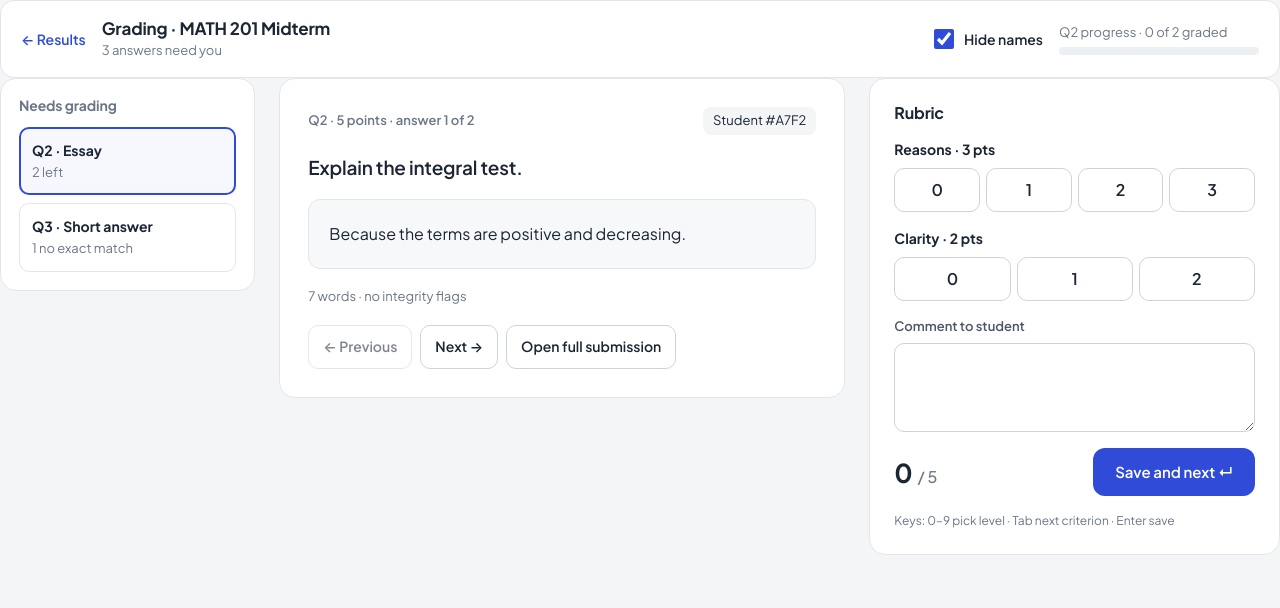
Scenario: GradingPage › shows the server error and keeps the form when saving fails
Expected: the text "Student #A7F2" is shown, left=703, top=107, right=816, bottom=134
Click the button named "Reasons: 1 of 3": (1029,190) left=986, top=168, right=1072, bottom=212
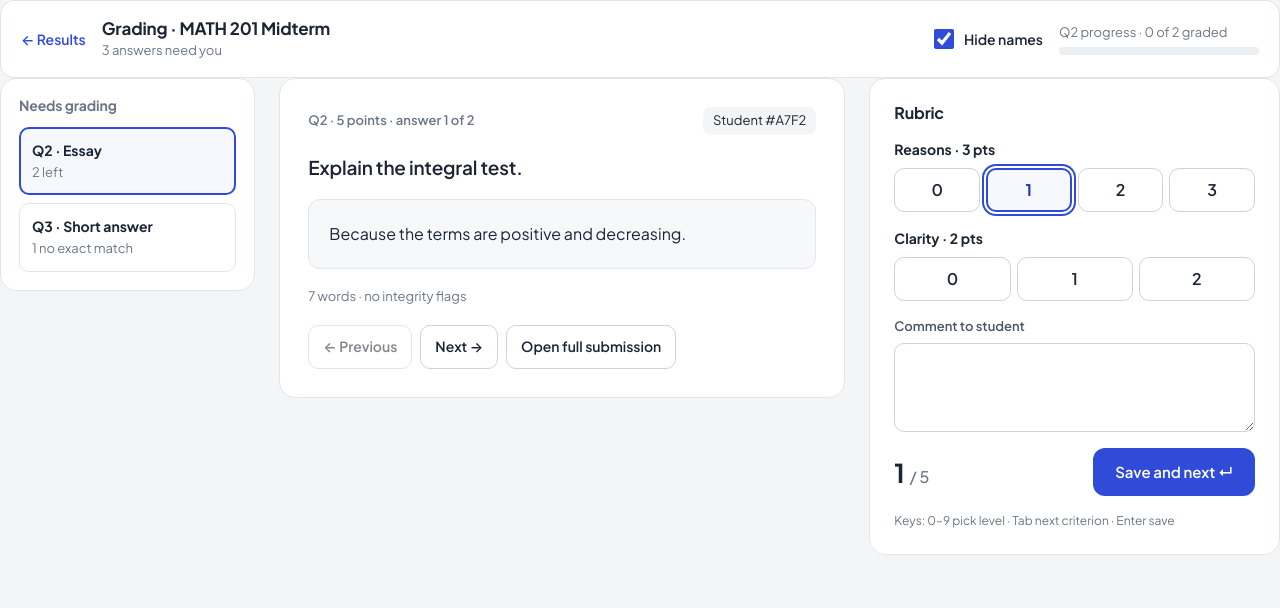
Click the button named "Clarity: 1 of 2": (1075,279) left=1016, top=257, right=1133, bottom=301
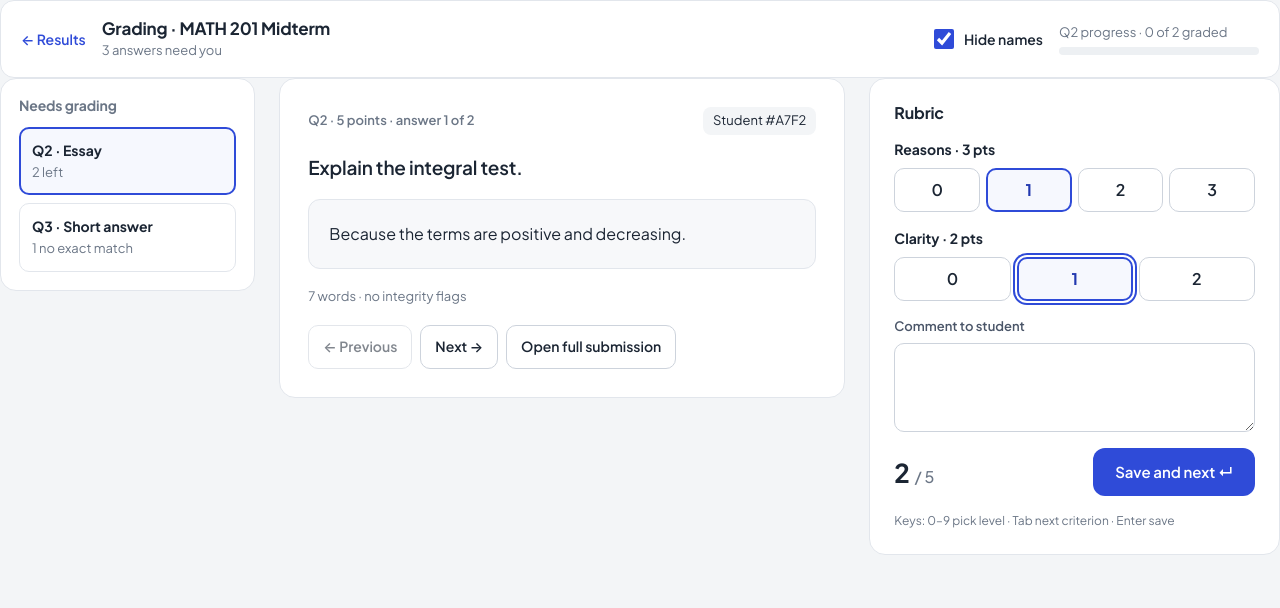
Click the button "Save and next ↵": (1174,472) left=1093, top=448, right=1255, bottom=496
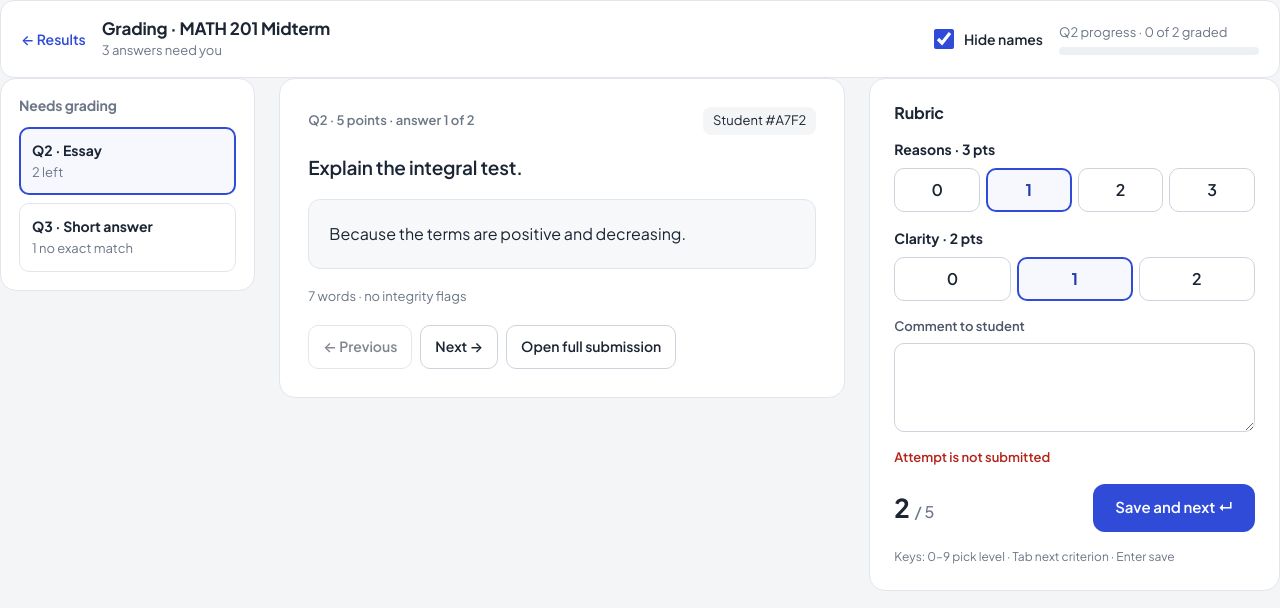
Expected: the text "Student #A7F2" is shown, left=703, top=107, right=816, bottom=134
Expected: the element named "Total 2 of 5" is shown, left=894, top=488, right=934, bottom=527
Expected: the message reads "Attempt is not submitted", left=894, top=449, right=1050, bottom=465
